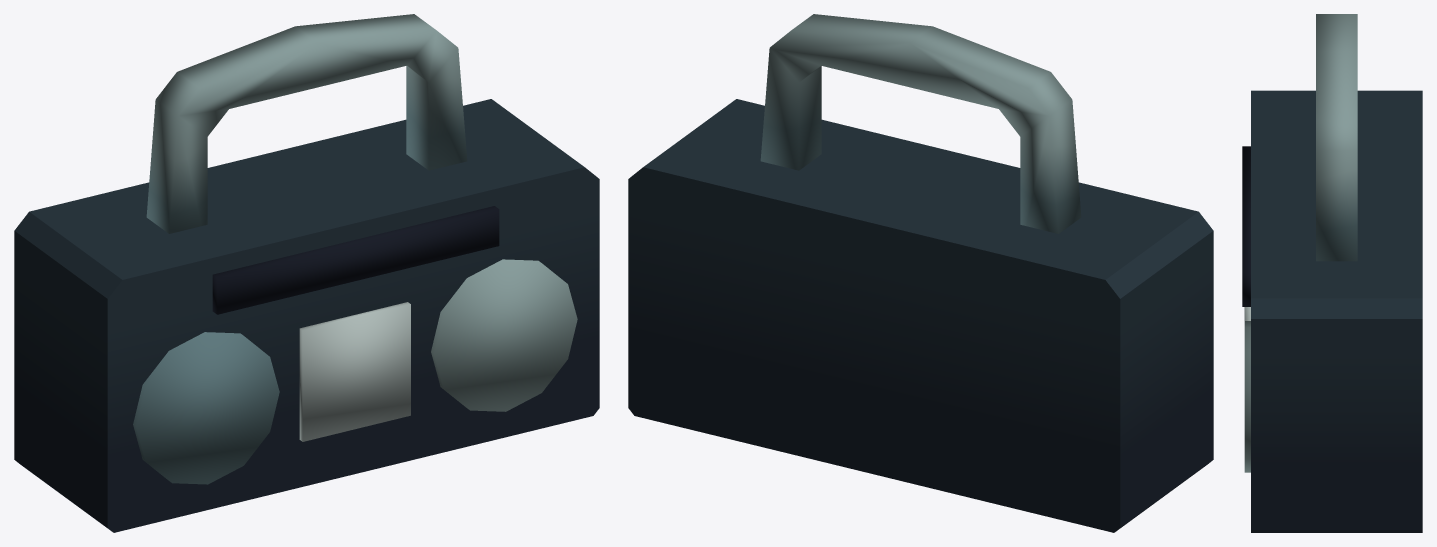
The model's file is boombox.glb.
The picture shows the model from 3 angles, left to right: view 1: azimuth 30°, elevation 25°; view 2: azimuth 150°, elevation 25°; view 3: azimuth 270°, elevation 25°; orthographic projection. The views are drawn at different scales.
Visible parts, largest first — view 1: boombox; view 2: boombox; view 3: boombox.
Part boxes in pixels (x1,y1,x2,y2): boombox: (14, 14, 599, 532); boombox: (628, 14, 1213, 532); boombox: (1242, 14, 1422, 532).
Bounding box in the file's own units: 0.337 × 0.2657 × 0.1164.
1 material, 1 textured.
